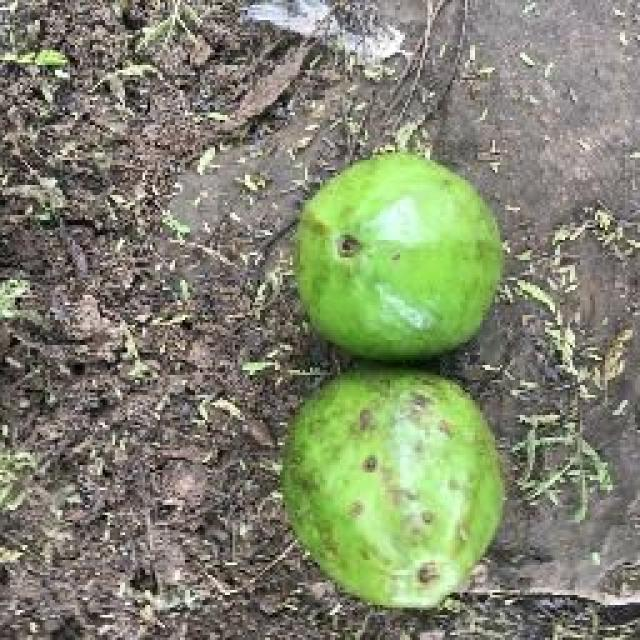Good_Guava: (280, 362, 505, 612), (292, 152, 508, 362)
